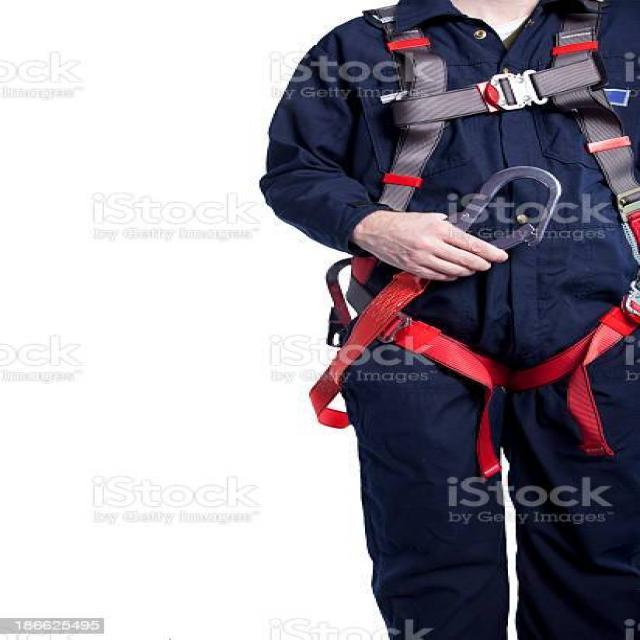belt: (266, 0, 640, 429)
